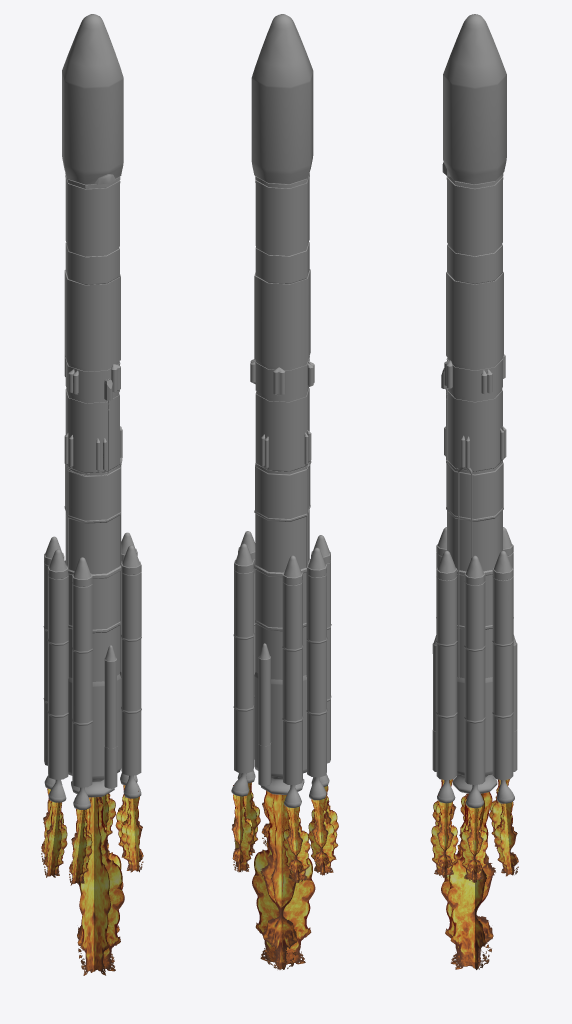
The model's file is PSLV C40.FBX.
The picture shows the model from 3 angles, left to right: view 1: azimuth 30°, elevation 25°; view 2: azimuth 150°, elevation 25°; view 3: azimuth 270°, elevation 25°; orthographic projection.
Visible parts, largest first — view 1: main Pslv, Plane001; view 2: main Pslv, Plane001; view 3: main Pslv, Plane001.
Boxes of the visible parts, <box> form: main Pslv: <box>43,14,141,809</box>; Plane001: <box>41,785,143,975</box>; main Pslv: <box>231,14,331,807</box>; Plane001: <box>231,782,338,969</box>; main Pslv: <box>432,14,517,808</box>; Plane001: <box>430,779,518,969</box>.
Size of the model in its own units: 50.06 by 315 by 49.17.
